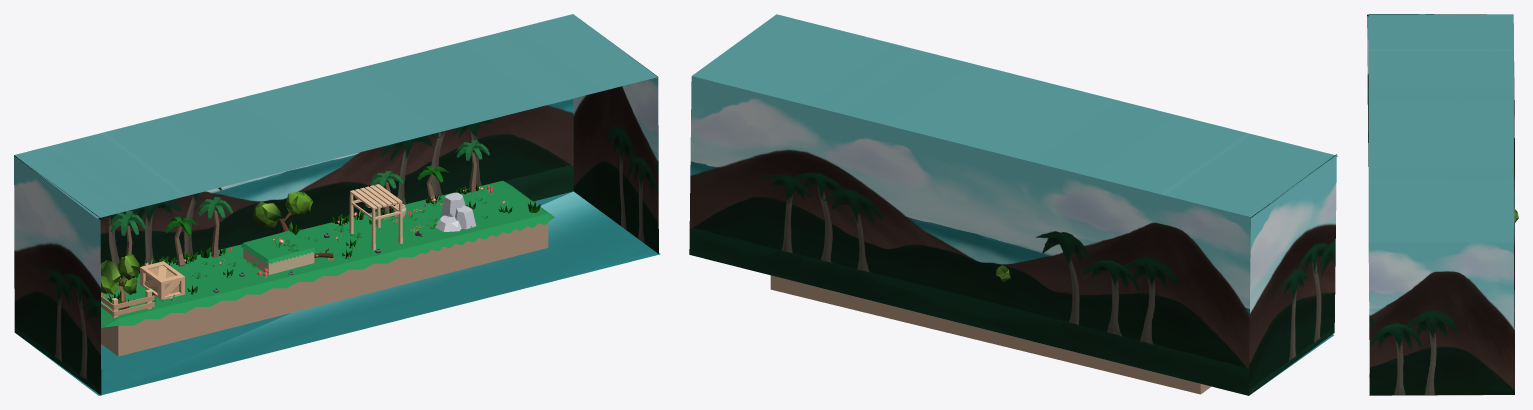
Rendered from Langit lupa.glb.
3 renders of one model, left to right at view 1: azimuth 30°, elevation 25°; view 2: azimuth 150°, elevation 25°; view 3: azimuth 270°, elevation 25°, orthographic. The views are drawn at different scales.
Parts seen in each view (by area): view 1: background, blockLarge.001, blockLarge.004, blockLarge.003, structureBase, Cube.001, Icosphere.003, crate, rocks, fenceCorner, Group 154.001; view 2: background, blockLarge.001, blockLarge.004; view 3: background.
Boxes of the visible parts, x1,y1,x2,y2 form: background: (14,14,660,395); blockLarge.001: (101,217,423,356); blockLarge.004: (363,180,554,283); blockLarge.003: (241,231,316,274); structureBase: (349,184,402,250); Cube.001: (100,253,139,310); Icosphere.003: (253,192,312,234); crate: (140,261,184,300); rocks: (435,192,476,231); fenceCorner: (101,289,154,317); Group 154.001: (108,211,146,236); background: (689,14,1337,395); blockLarge.001: (895,307,1211,394); blockLarge.004: (770,275,913,323); background: (1367,14,1514,395).
Bounding box in the file's own units: 92.1 × 30.94 × 25.23.
Materials: 66 (12 with a texture image).
